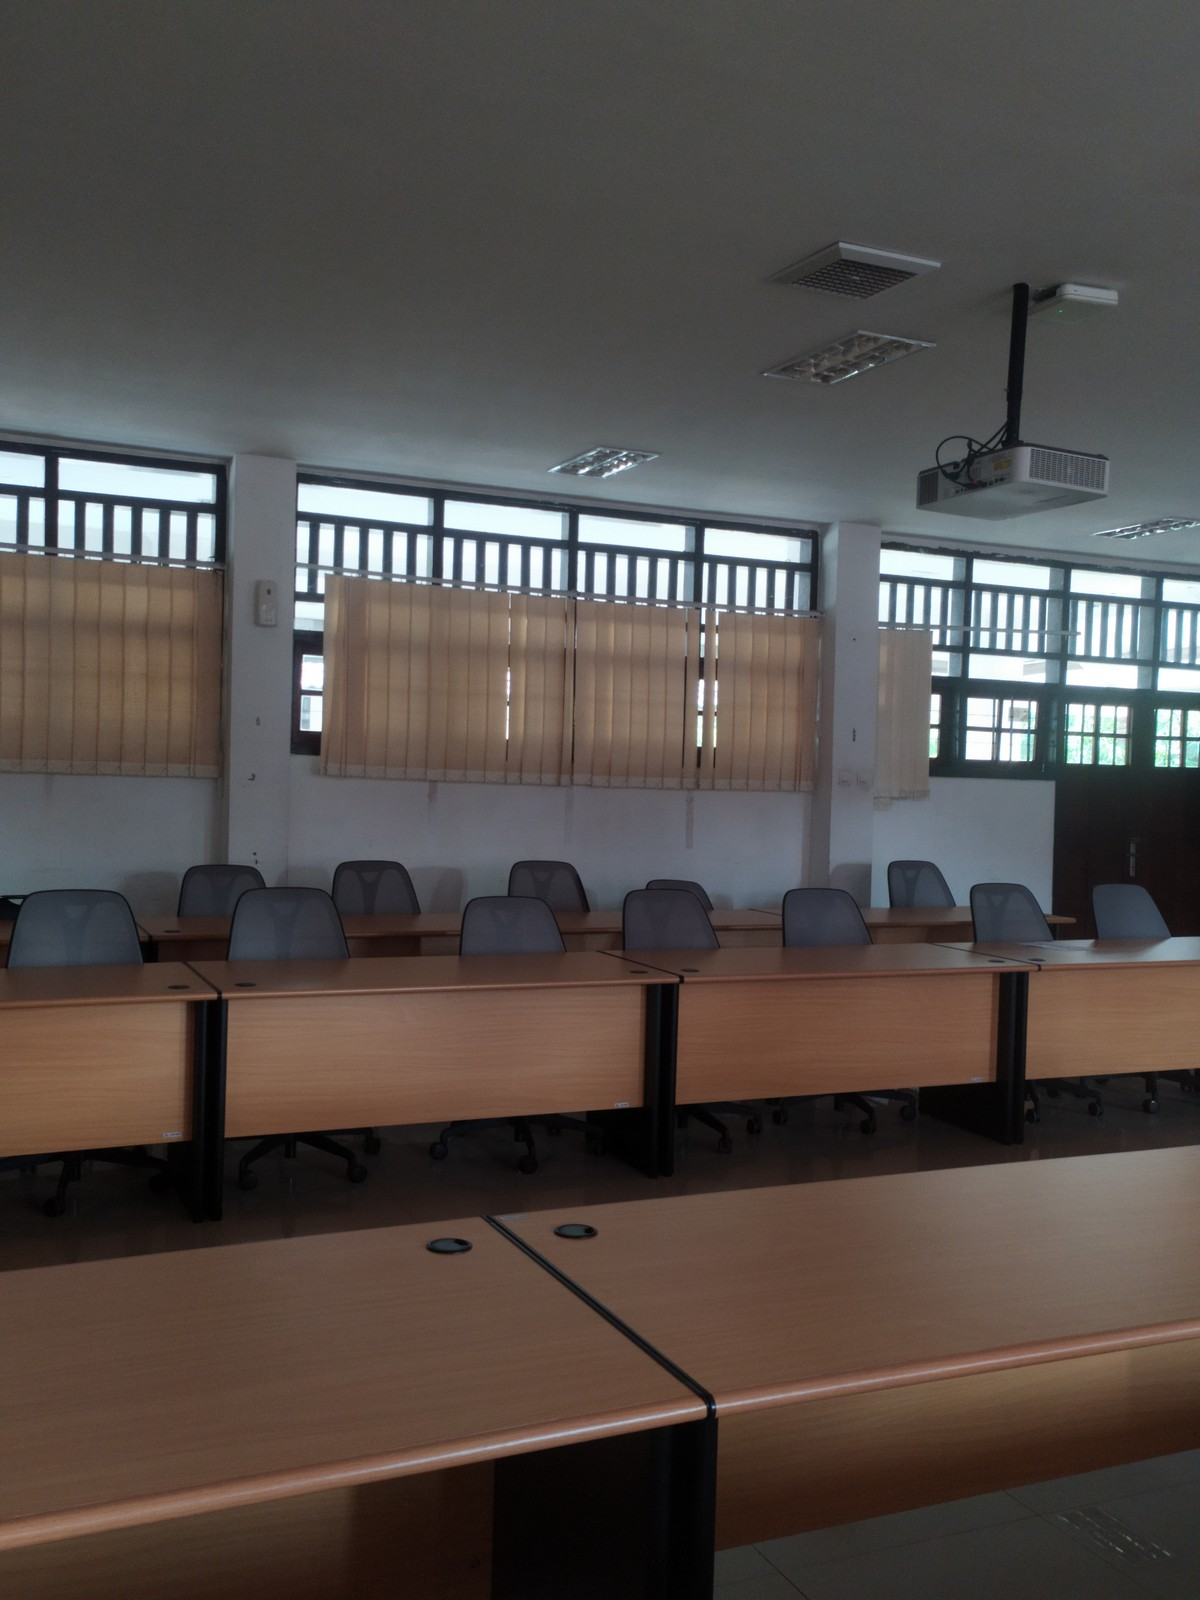concrete column: (213, 443, 304, 876), (803, 506, 886, 894)
